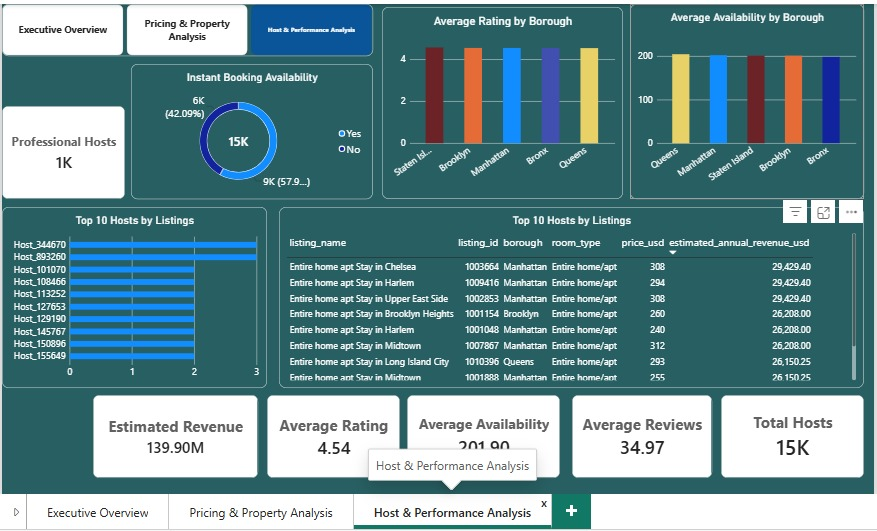

Layout of this report page (visuals, bound fields, positions):
{"tool":"powerbi","page":{"name":"Host & Performance Analysis","canvas":[1920,1080],"ordinal":2},"visuals":[{"type":"cardVisual","fields":{"Data":["Table.Total Hosts"]},"box":[1584.7,861.8,315.2,182.9],"z":0},{"type":"cardVisual","fields":{"Data":["Table.Average Availability"]},"box":[892.7,861.8,337.2,182.9],"z":1000},{"type":"cardVisual","fields":{"Data":["Table.Average Reviews"]},"box":[1256.3,861.8,308.6,182.9],"z":2000},{"type":"cardVisual","fields":{"Data":["Table.Average Rating"]},"box":[584.1,861.8,293.1,182.9],"z":3000},{"type":"cardVisual","fields":{"Data":["Table.Professional Hosts"]},"box":[0,224.8,271.1,205],"z":4000},{"type":"cardVisual","fields":{"Data":["Table.Estimated Revenue"]},"box":[200.6,861.8,363.7,182.9],"z":5000},{"type":"clusteredBarChart","title":"Top 10 Hosts by Listings","fields":{"Category":["Airbnb_NYC_Cleaned_Analytics_FIXED.host_name"],"Y":["Table.Total Listings"]},"box":[0,447.4,584.1,398.9],"z":6000},{"type":"tableEx","title":"Top 10 Hosts by Listings","fields":{"Values":["Airbnb_NYC_Cleaned_Analytics_FIXED.listing_name","Airbnb_NYC_Cleaned_Analytics_FIXED.listing_id","Airbnb_NYC_Cleaned_Analytics_FIXED.borough","Airbnb_NYC_Cleaned_Analytics_FIXED.room_type","Airbnb_NYC_Cleaned_Analytics_FIXED.price_usd","Airbnb_NYC_Cleaned_Analytics_FIXED.estimated_annual_revenue_usd"]},"box":[610.5,447.4,1289.4,398.9],"z":7000},{"type":"columnChart","title":"Average Rating by Borough","fields":{"Category":["Airbnb_NYC_Cleaned_Analytics_FIXED.borough"],"Y":["Table.Average Rating"]},"box":[837.6,6.6,531.2,423.2],"z":8000},{"type":"columnChart","title":"Average Availability by Borough","fields":{"Category":["Airbnb_NYC_Cleaned_Analytics_FIXED.borough"],"Y":["Table.Average Availability"]},"box":[1384.2,0,515.8,429.8],"z":9000},{"type":"donutChart","title":"Instant Booking Availability","fields":{"Category":["Airbnb_NYC_Cleaned_Analytics_FIXED.instant_bookable"],"Y":["Table.Total Listings"]},"box":[284.3,132.2,533.4,297.6],"z":10000},{"type":"pageNavigator","box":[0,0,817.7,114.6],"z":11000}]}

Visuals, with their boxes on the page's 1920x1080 design canvas (x1, y1, x2, y2). These are canvas units, not pixel positions in the 877x531 screenshot, which may show the page scaled, cropped or inside an application window:
cardVisual - Table.Total Hosts: [x1=1585, y1=862, x2=1900, y2=1045]
cardVisual - Table.Average Availability: [x1=893, y1=862, x2=1230, y2=1045]
cardVisual - Table.Average Reviews: [x1=1256, y1=862, x2=1565, y2=1045]
cardVisual - Table.Average Rating: [x1=584, y1=862, x2=877, y2=1045]
cardVisual - Table.Professional Hosts: [x1=0, y1=225, x2=271, y2=430]
cardVisual - Table.Estimated Revenue: [x1=201, y1=862, x2=564, y2=1045]
"Top 10 Hosts by Listings" clusteredBarChart: [x1=0, y1=447, x2=584, y2=846]
"Top 10 Hosts by Listings" tableEx: [x1=610, y1=447, x2=1900, y2=846]
"Average Rating by Borough" columnChart: [x1=838, y1=7, x2=1369, y2=430]
"Average Availability by Borough" columnChart: [x1=1384, y1=0, x2=1900, y2=430]
"Instant Booking Availability" donutChart: [x1=284, y1=132, x2=818, y2=430]
pageNavigator: [x1=0, y1=0, x2=818, y2=115]
